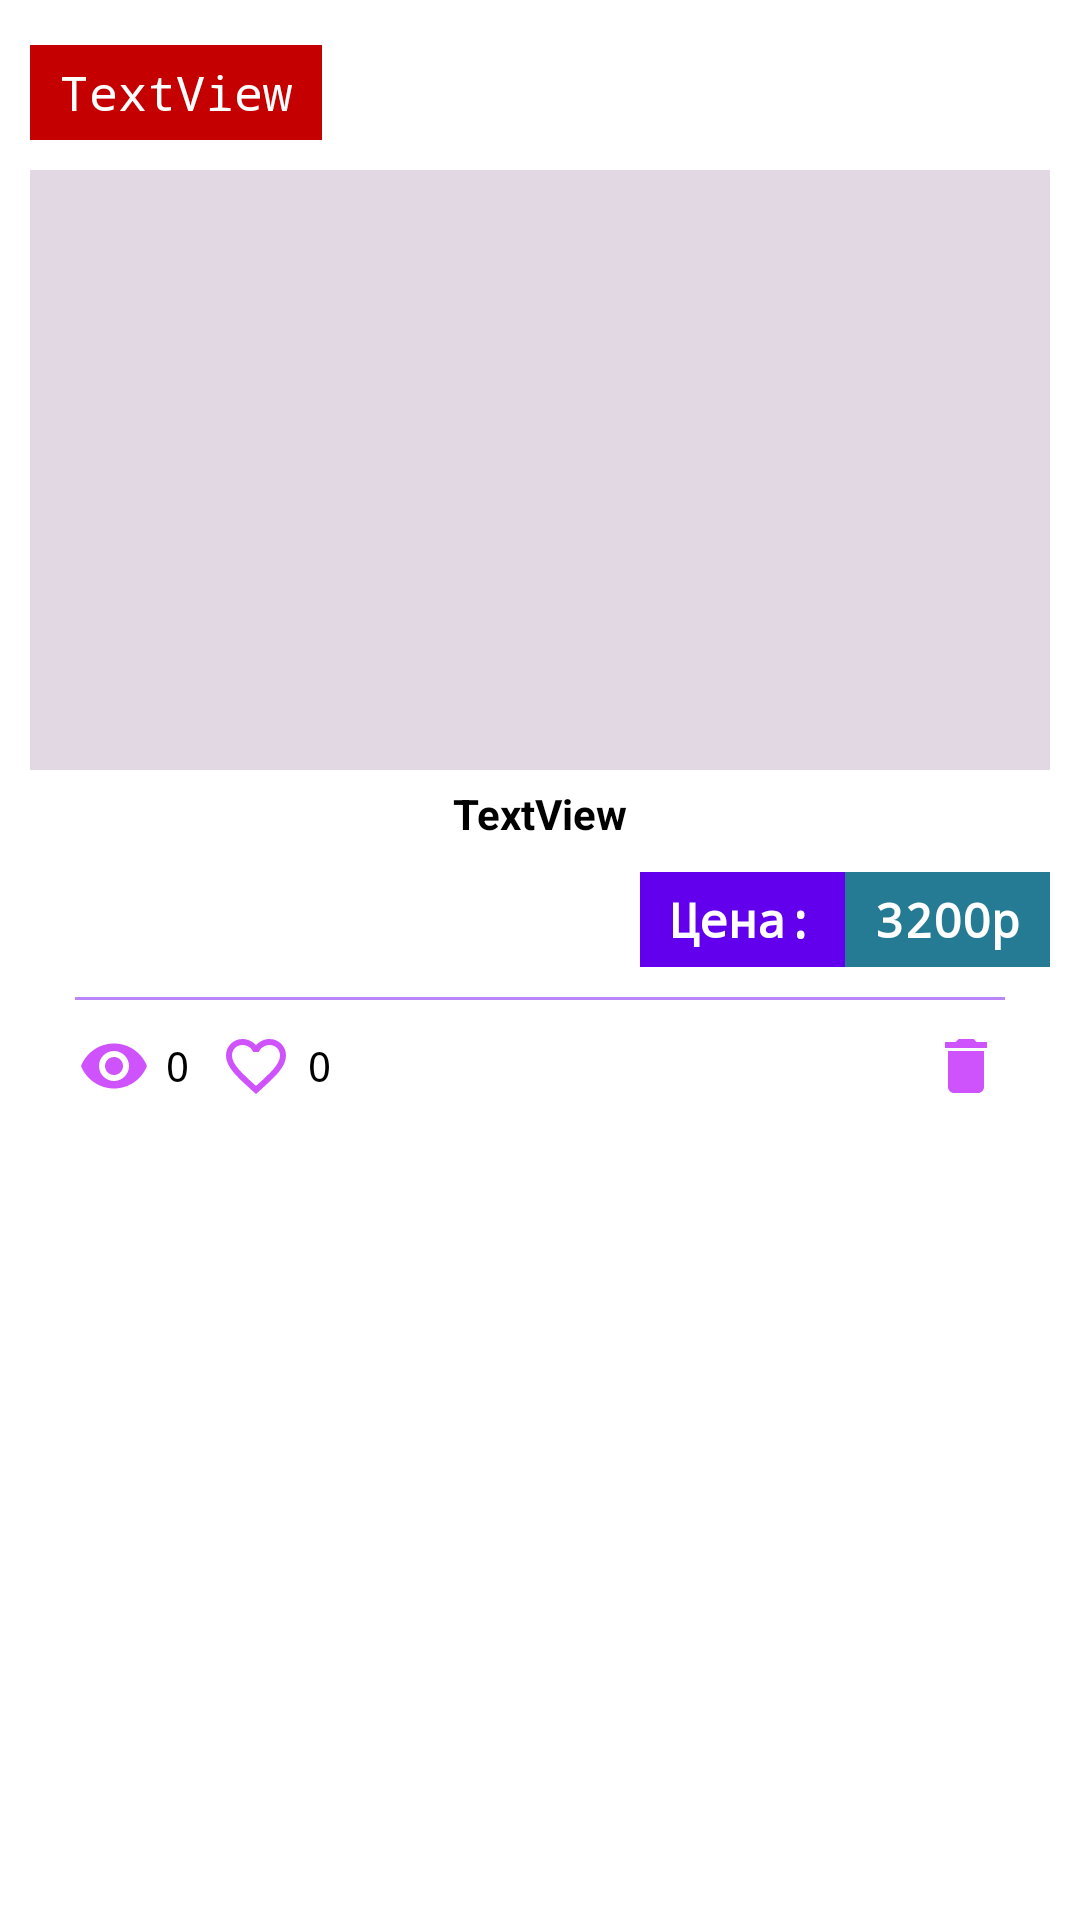

Point at icon controls on the screen. Image size 1080 × 1920, points as (x,y).
delete ad: (966,1066)
eye: (114,1066)
fav: (256,1066)
